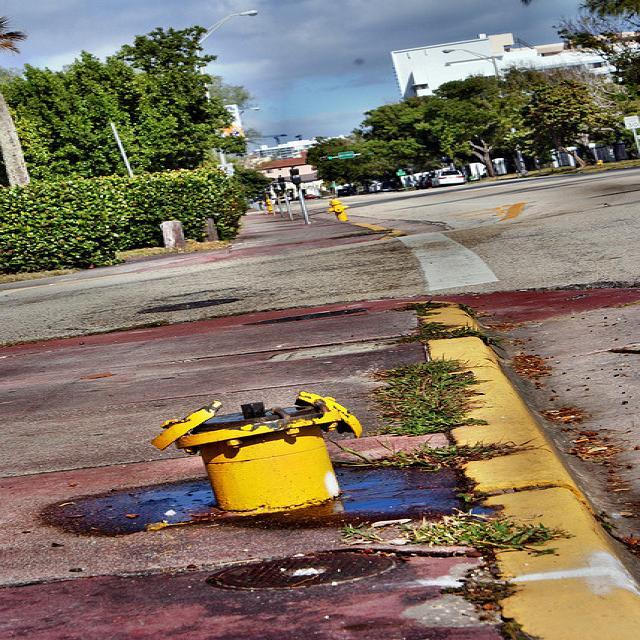fire_hydrant: (150, 391, 364, 516), (328, 198, 348, 221), (264, 198, 272, 213)
